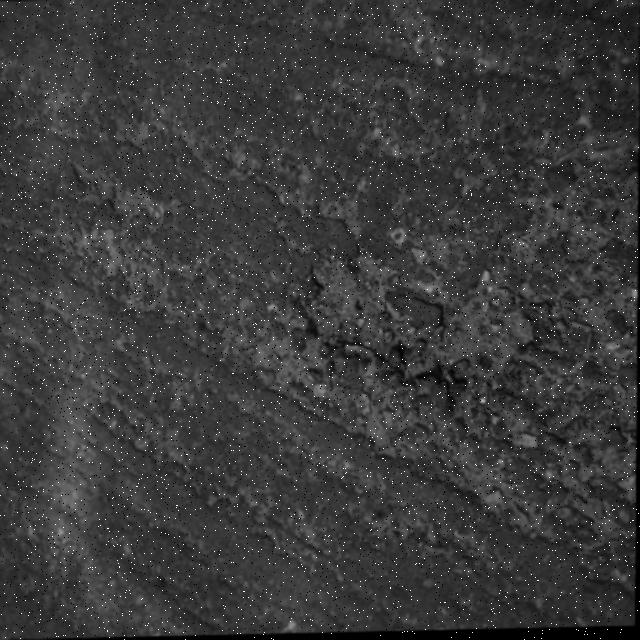Pothole: (304, 258, 534, 411)
